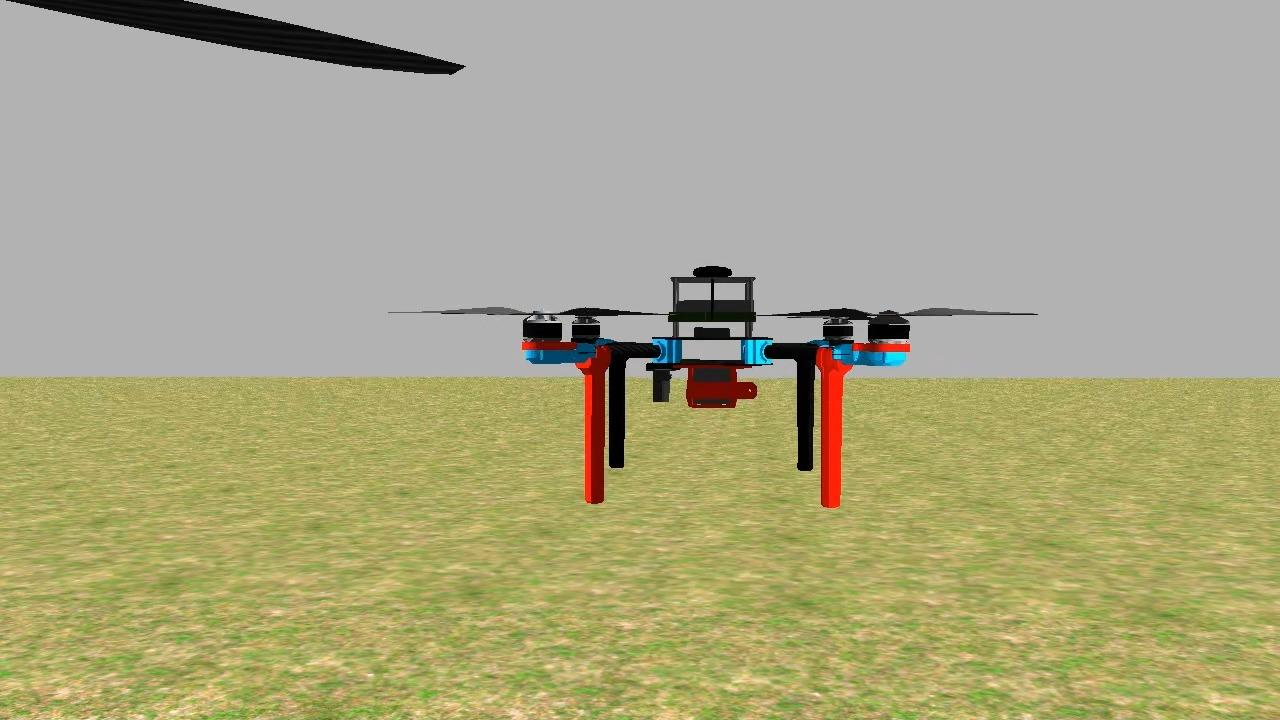UAV: (513, 255, 919, 522)
